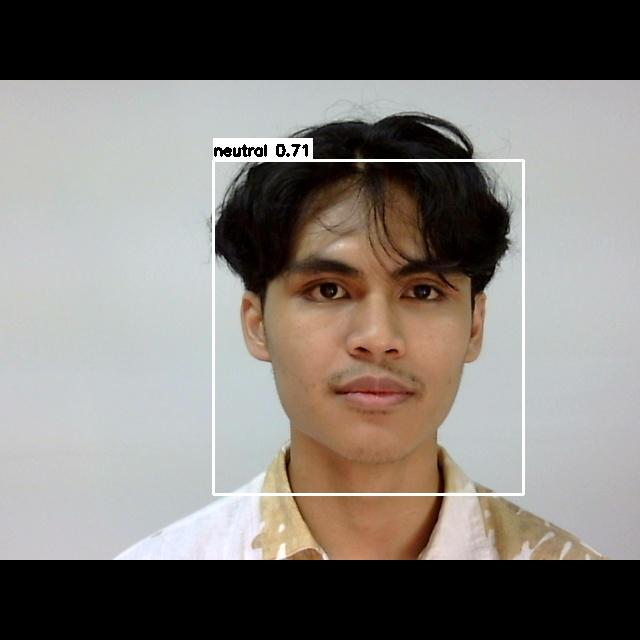Natural: (265, 216, 474, 417)
